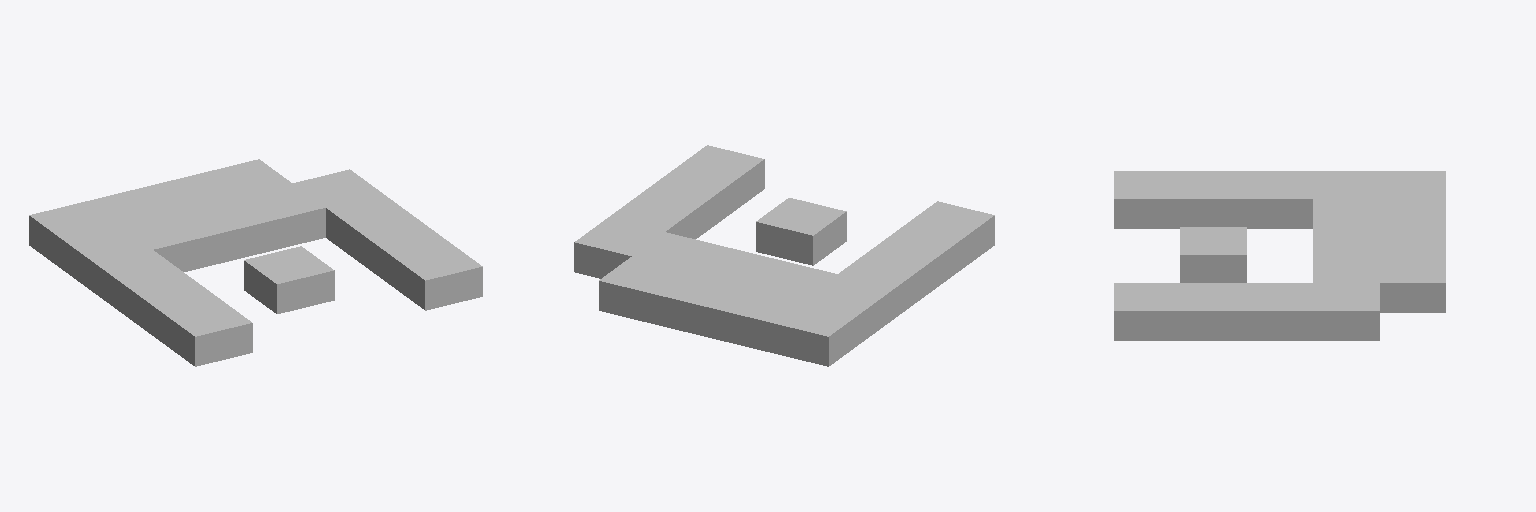
The model's file is 29f_block.obj.
The picture shows the model from 3 angles: view 1: azimuth 30°, elevation 25°; view 2: azimuth 150°, elevation 25°; view 3: azimuth 270°, elevation 25°; orthographic projection.
Parts seen in each view (by area): view 1: foil.block.4.0_block.3532, foil.block.0.0_block.3520, foil.block.2.1_block.3527, foil.block.3.3_block.3530, foil.block.2.3_block.3528, foil.block.1.3_block.3525, foil.block.0.3_block.3523, foil.block.0.4_block.3524, foil.block.4.1_block.3533, foil.block.0.2_block.3522, foil.block.0.1_block.3521, foil.block.4.2_block.3534 (+4 smaller); view 2: foil.block.0.4_block.3524, foil.block.2.1_block.3527, foil.block.2.4_block.3529, foil.block.1.4_block.3526, foil.block.3.4_block.3531, foil.block.4.3_block.3535, foil.block.4.1_block.3533, foil.block.0.1_block.3521, foil.block.0.0_block.3520, foil.block.0.2_block.3522, foil.block.0.3_block.3523, foil.block.4.0_block.3532 (+4 smaller); view 3: foil.block.4.1_block.3533, foil.block.4.3_block.3535, foil.block.0.0_block.3520, foil.block.0.2_block.3522, foil.block.3.4_block.3531, foil.block.4.0_block.3532, foil.block.4.2_block.3534, foil.block.0.1_block.3521, foil.block.2.1_block.3527, foil.block.0.3_block.3523, foil.block.1.3_block.3525, foil.block.2.3_block.3528 (+4 smaller).
Boxes of the visible parts, box(x1,y1,x2,y2) form: foil.block.4.0_block.3532: box(392, 242, 482, 310); foil.block.0.0_block.3520: box(162, 298, 252, 366); foil.block.2.1_block.3527: box(244, 246, 334, 313); foil.block.3.3_block.3530: box(235, 183, 325, 251); foil.block.2.3_block.3528: box(177, 198, 267, 265); foil.block.1.3_block.3525: box(120, 212, 210, 271); foil.block.0.3_block.3523: box(62, 226, 152, 293); foil.block.0.4_block.3524: box(29, 201, 119, 268); foil.block.4.1_block.3533: box(359, 218, 448, 285); foil.block.0.2_block.3522: box(96, 250, 184, 317); foil.block.0.1_block.3521: box(129, 274, 218, 341); foil.block.4.2_block.3534: box(326, 194, 415, 261); foil.block.0.4_block.3524: box(771, 298, 861, 366); foil.block.2.1_block.3527: box(756, 198, 846, 265); foil.block.2.4_block.3529: box(656, 270, 746, 338); foil.block.1.4_block.3526: box(714, 285, 803, 352); foil.block.3.4_block.3531: box(599, 257, 688, 324); foil.block.4.3_block.3535: box(574, 218, 663, 278); foil.block.4.1_block.3533: box(641, 169, 731, 237); foil.block.0.1_block.3521: box(871, 226, 961, 293); foil.block.0.0_block.3520: box(904, 201, 994, 268); foil.block.0.2_block.3522: box(839, 250, 927, 317); foil.block.0.3_block.3523: box(805, 274, 894, 341); foil.block.4.0_block.3532: box(675, 145, 764, 212); foil.block.4.1_block.3533: box(1180, 283, 1246, 340); foil.block.4.3_block.3535: box(1313, 283, 1379, 340); foil.block.0.0_block.3520: box(1114, 171, 1179, 228); foil.block.0.2_block.3522: box(1247, 171, 1312, 228); foil.block.3.4_block.3531: box(1380, 255, 1445, 312); foil.block.4.0_block.3532: box(1114, 283, 1179, 340); foil.block.4.2_block.3534: box(1247, 283, 1312, 340); foil.block.0.1_block.3521: box(1180, 171, 1246, 226); foil.block.2.1_block.3527: box(1180, 227, 1246, 282); foil.block.0.3_block.3523: box(1313, 171, 1379, 198); foil.block.1.3_block.3525: box(1313, 199, 1379, 226); foil.block.2.3_block.3528: box(1313, 227, 1379, 254).
Size of the model in its own units: 10 by 1 by 10.